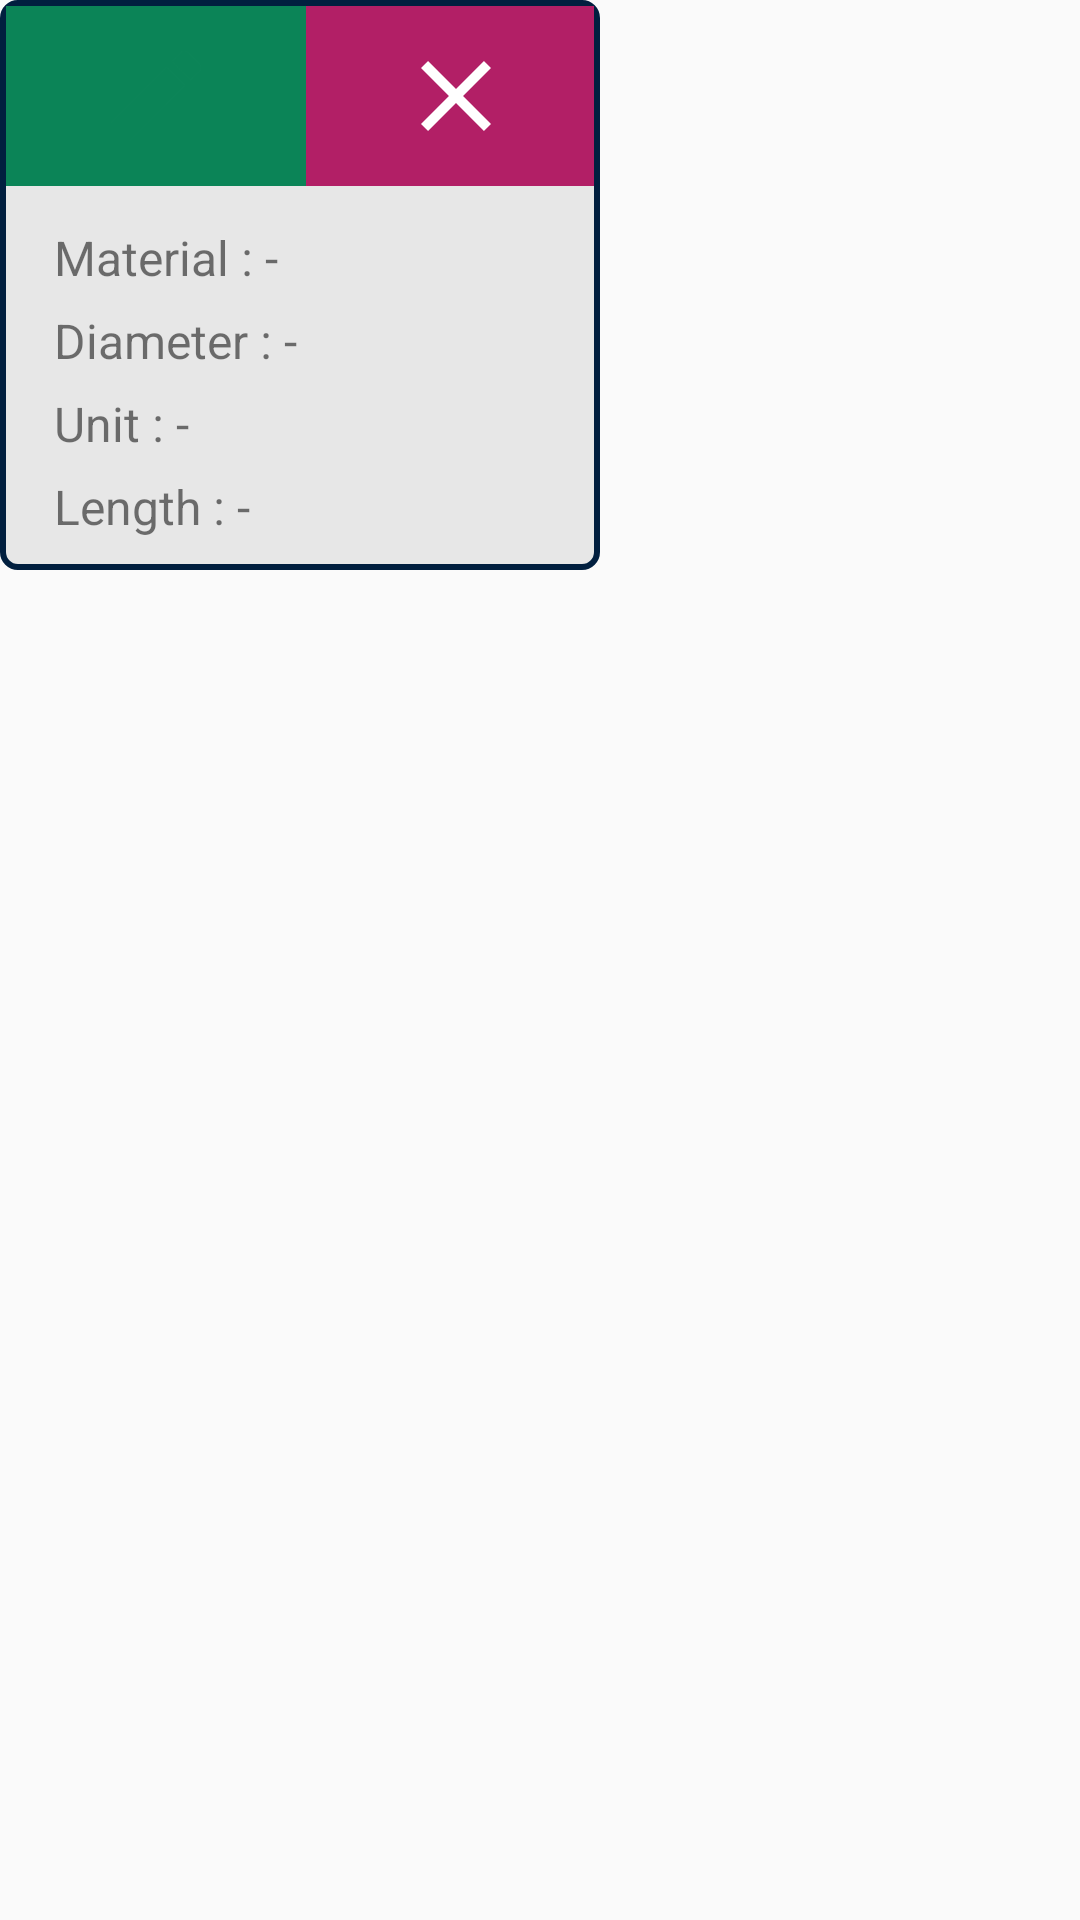

Point at icon controls on the screen. Image size 1080 × 1920, points as (x=x, y=y).
close: (x=450, y=96)
